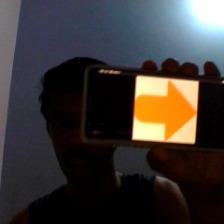right: (134, 79, 197, 143)
